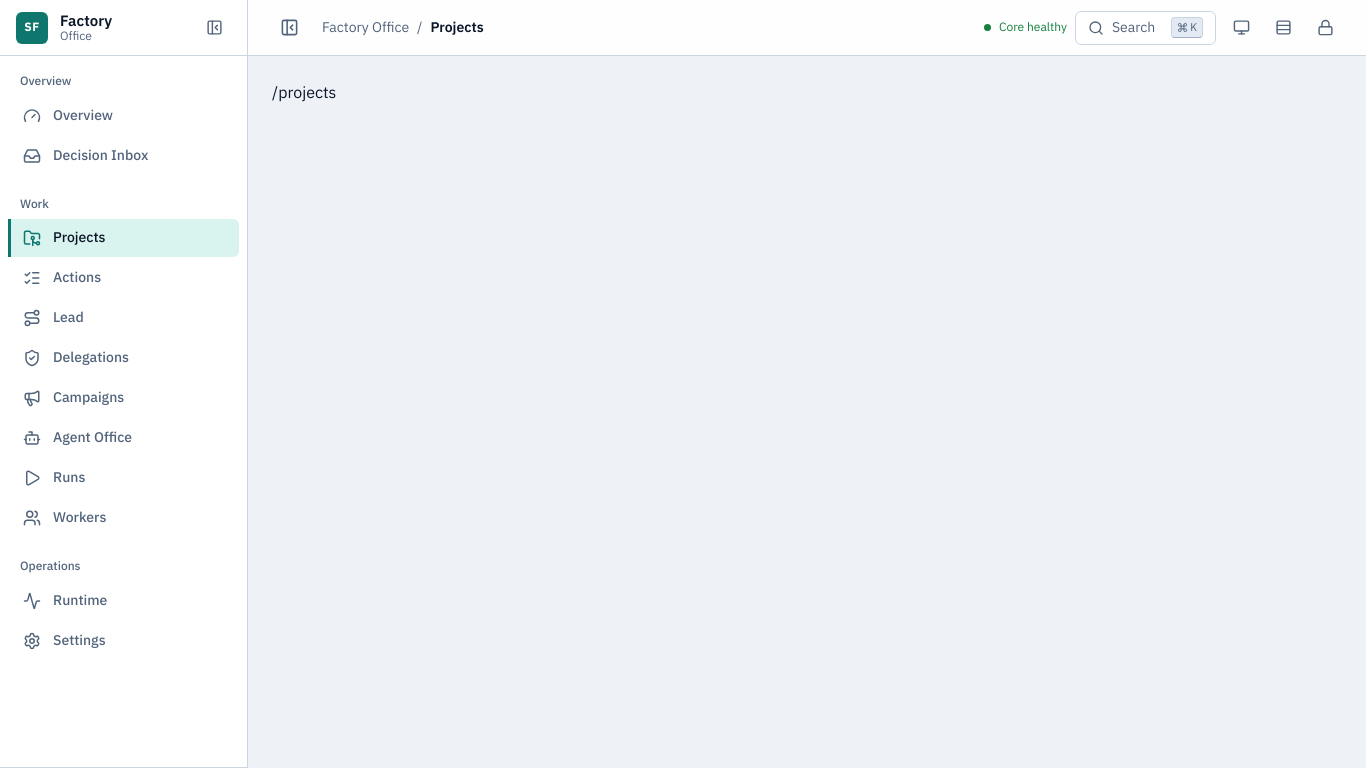
AppShell › recovers a collapsed shell from the visible topbar toggle
This screenshot has width=1366, height=768.
Click the button named "Toggle navigation": (289, 28) [272,10,306,44]
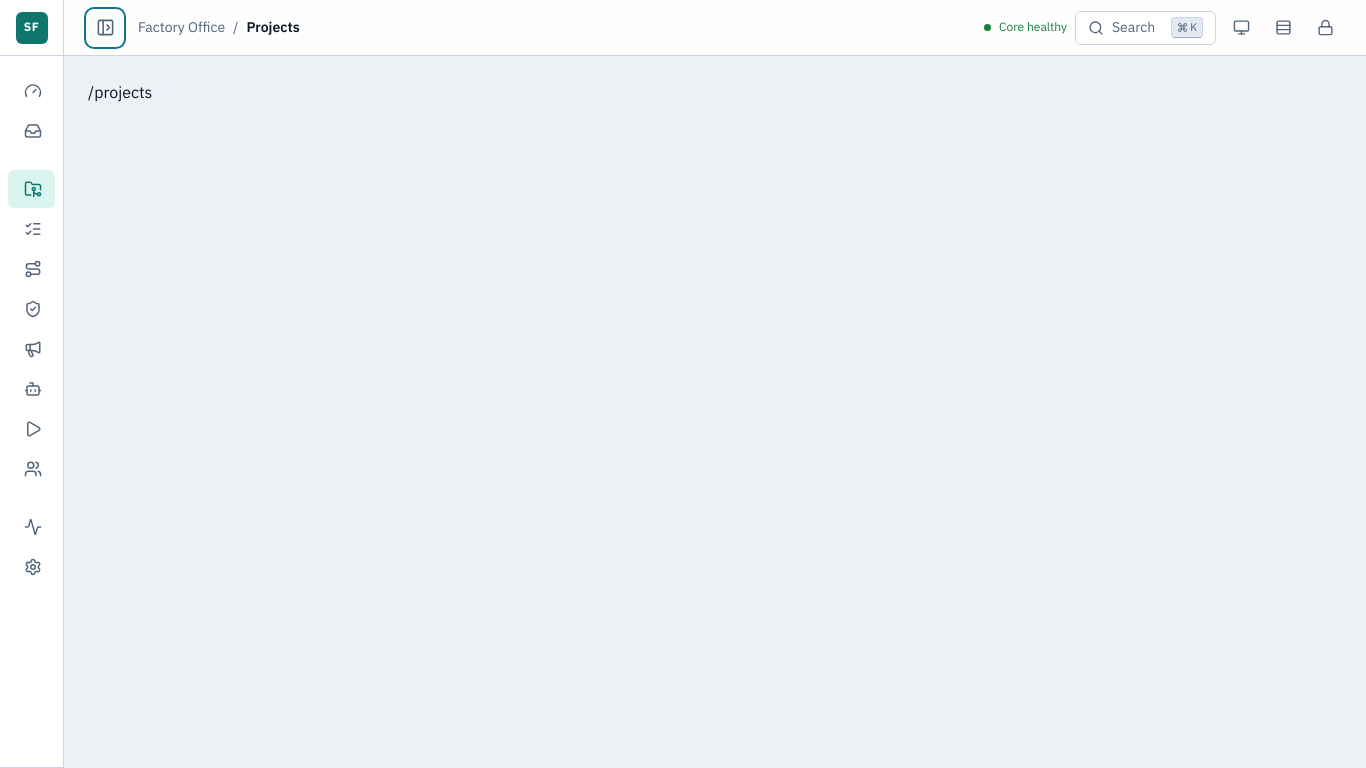
Expected: the button named "Toggle navigation" is collapsed
Click the button named "Toggle navigation": (105, 28) [88,10,122,44]
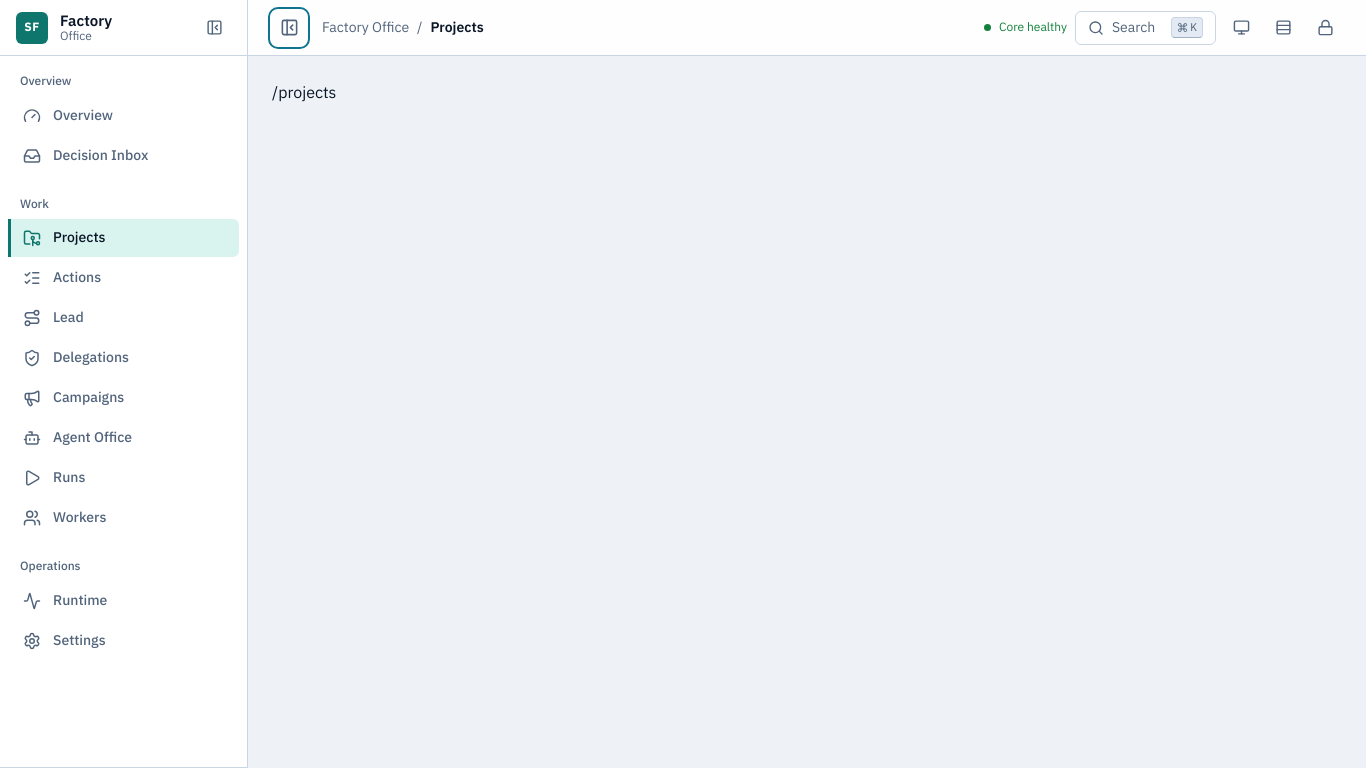
Expected: the button named "Toggle navigation" is expanded, [272,10,306,44]
